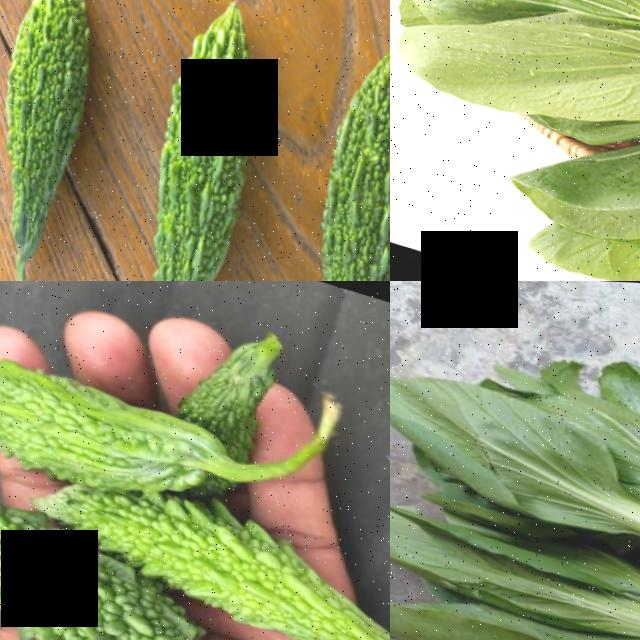bitter gourd: (78, 0, 330, 281), (0, 0, 147, 271), (254, 9, 390, 281), (114, 503, 375, 640), (0, 345, 220, 507), (0, 523, 217, 640)
bok choy: (390, 310, 640, 639), (405, 0, 640, 220), (390, 505, 640, 640)
